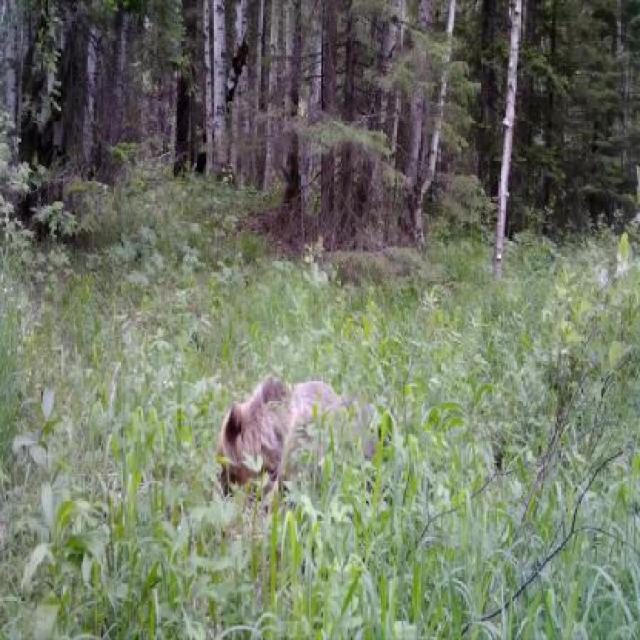Bear: (228, 297, 384, 532)
